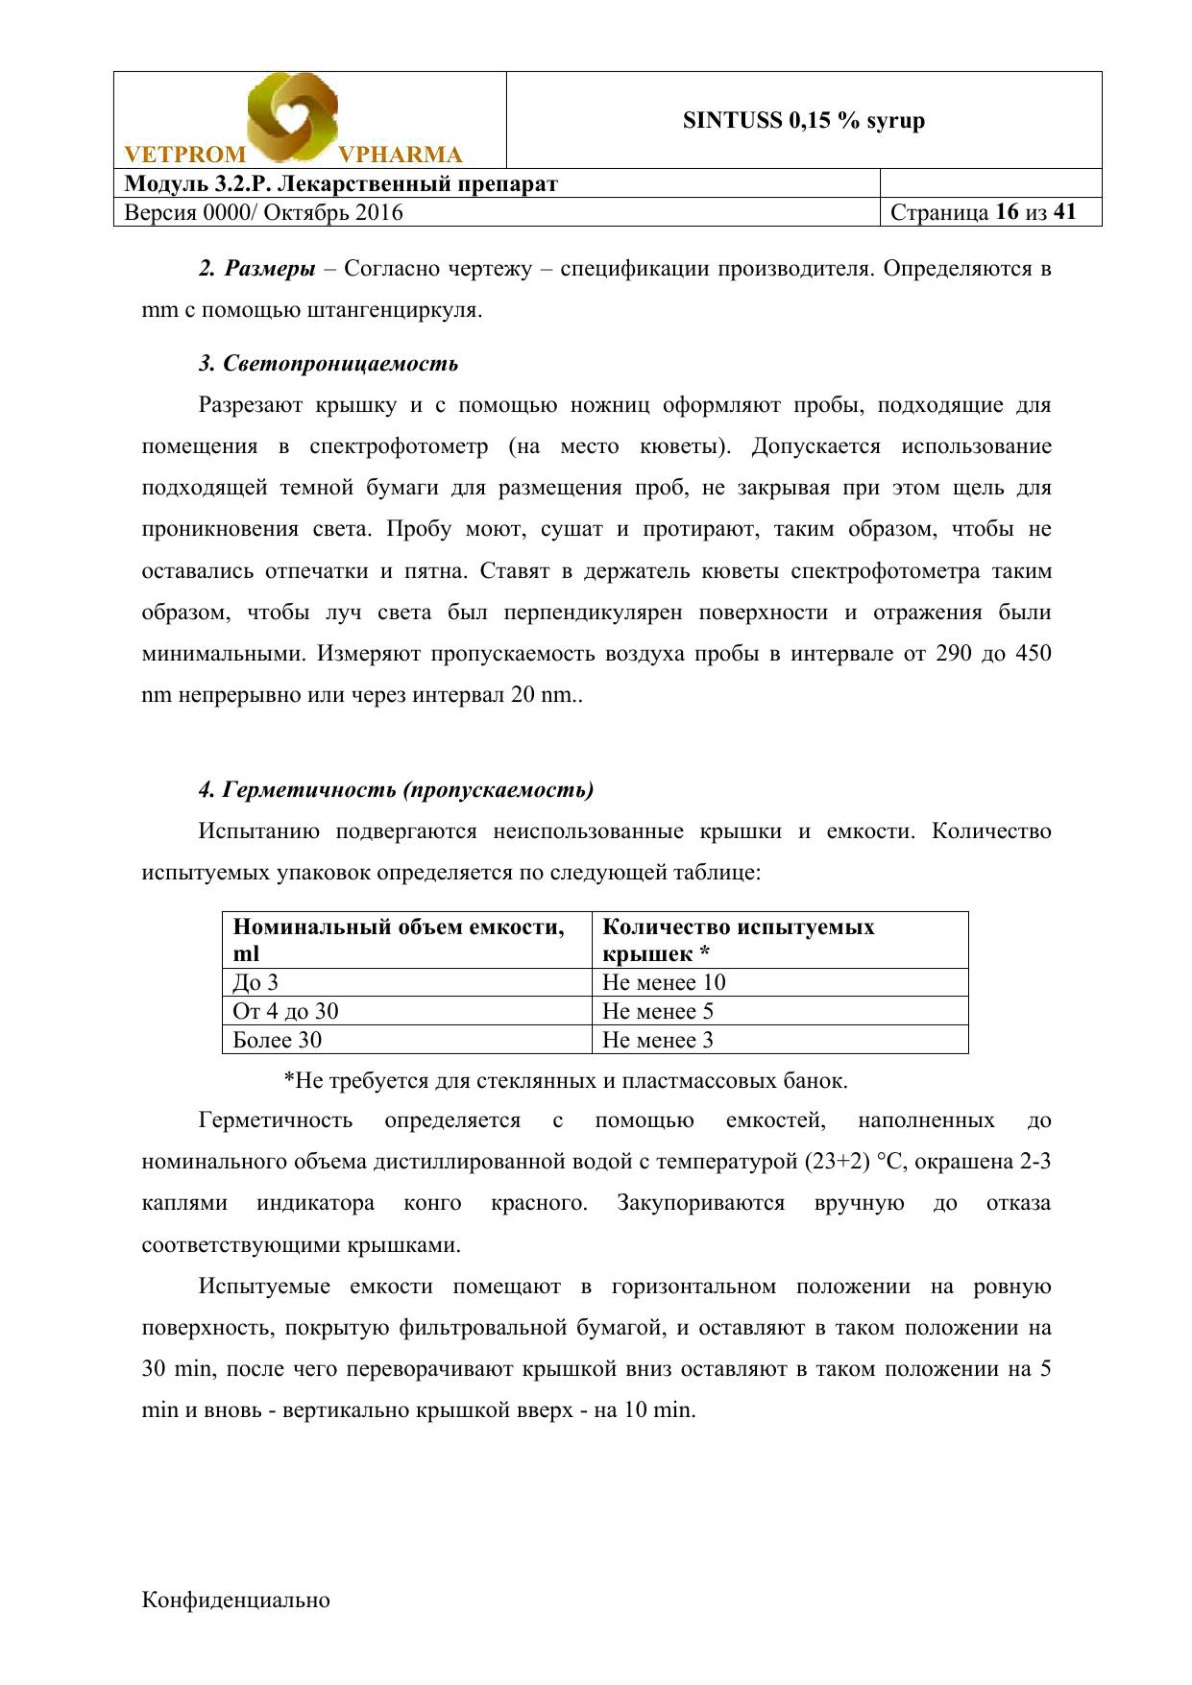full_lined: (221, 910, 970, 1055)
merged_cells: (114, 70, 1103, 228)
